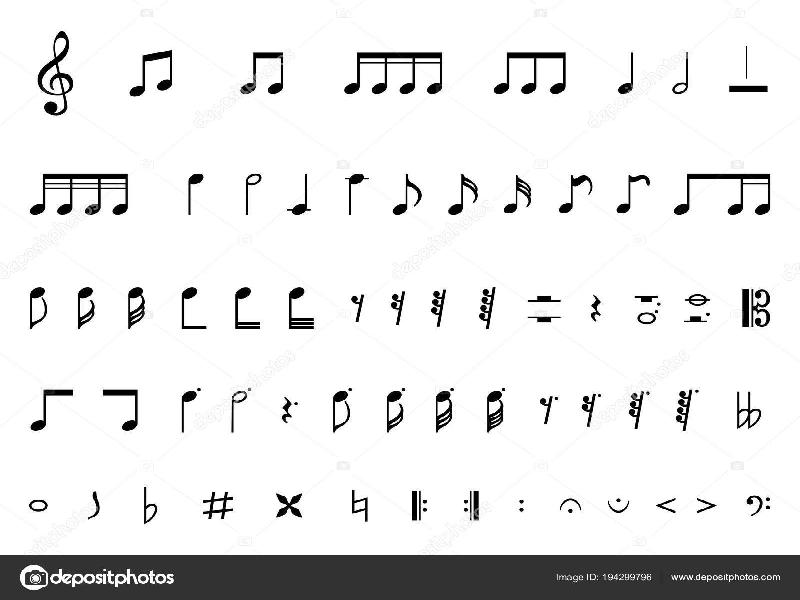B: (228, 390, 248, 440), (242, 172, 263, 216), (672, 52, 692, 96)
Bem: (139, 481, 159, 527), (747, 390, 762, 433), (735, 389, 748, 431)
C: (672, 170, 712, 218), (30, 387, 69, 435), (106, 386, 143, 434), (559, 172, 593, 219), (487, 49, 516, 95), (393, 174, 424, 216), (235, 47, 262, 95), (544, 48, 571, 96), (28, 281, 52, 334), (157, 44, 180, 96), (128, 51, 152, 100), (180, 284, 204, 332), (519, 49, 542, 97), (266, 49, 288, 99), (328, 391, 354, 432), (725, 170, 743, 220)
CF: (747, 494, 772, 518)
CS: (35, 27, 76, 119)
N: (281, 172, 311, 216), (614, 50, 641, 97), (345, 168, 367, 221), (184, 170, 207, 218), (180, 389, 198, 435)
P: (402, 382, 411, 395), (293, 398, 302, 406), (694, 385, 700, 397), (449, 382, 456, 392), (348, 384, 355, 392), (554, 394, 560, 402), (597, 390, 602, 399), (502, 382, 506, 393), (646, 389, 651, 396)
R: (28, 498, 52, 516), (686, 291, 710, 305), (635, 313, 657, 326)
SB: (530, 284, 559, 305), (685, 315, 705, 328)
SC: (498, 173, 535, 218), (447, 171, 480, 220), (373, 49, 400, 101), (231, 280, 258, 332), (426, 49, 451, 101), (398, 48, 425, 96), (381, 389, 405, 434), (73, 287, 98, 329), (345, 49, 366, 95)
SN: (588, 291, 607, 323), (280, 396, 293, 427)
SOS: (204, 485, 235, 522)
SR: (531, 309, 559, 323), (637, 292, 655, 303)
